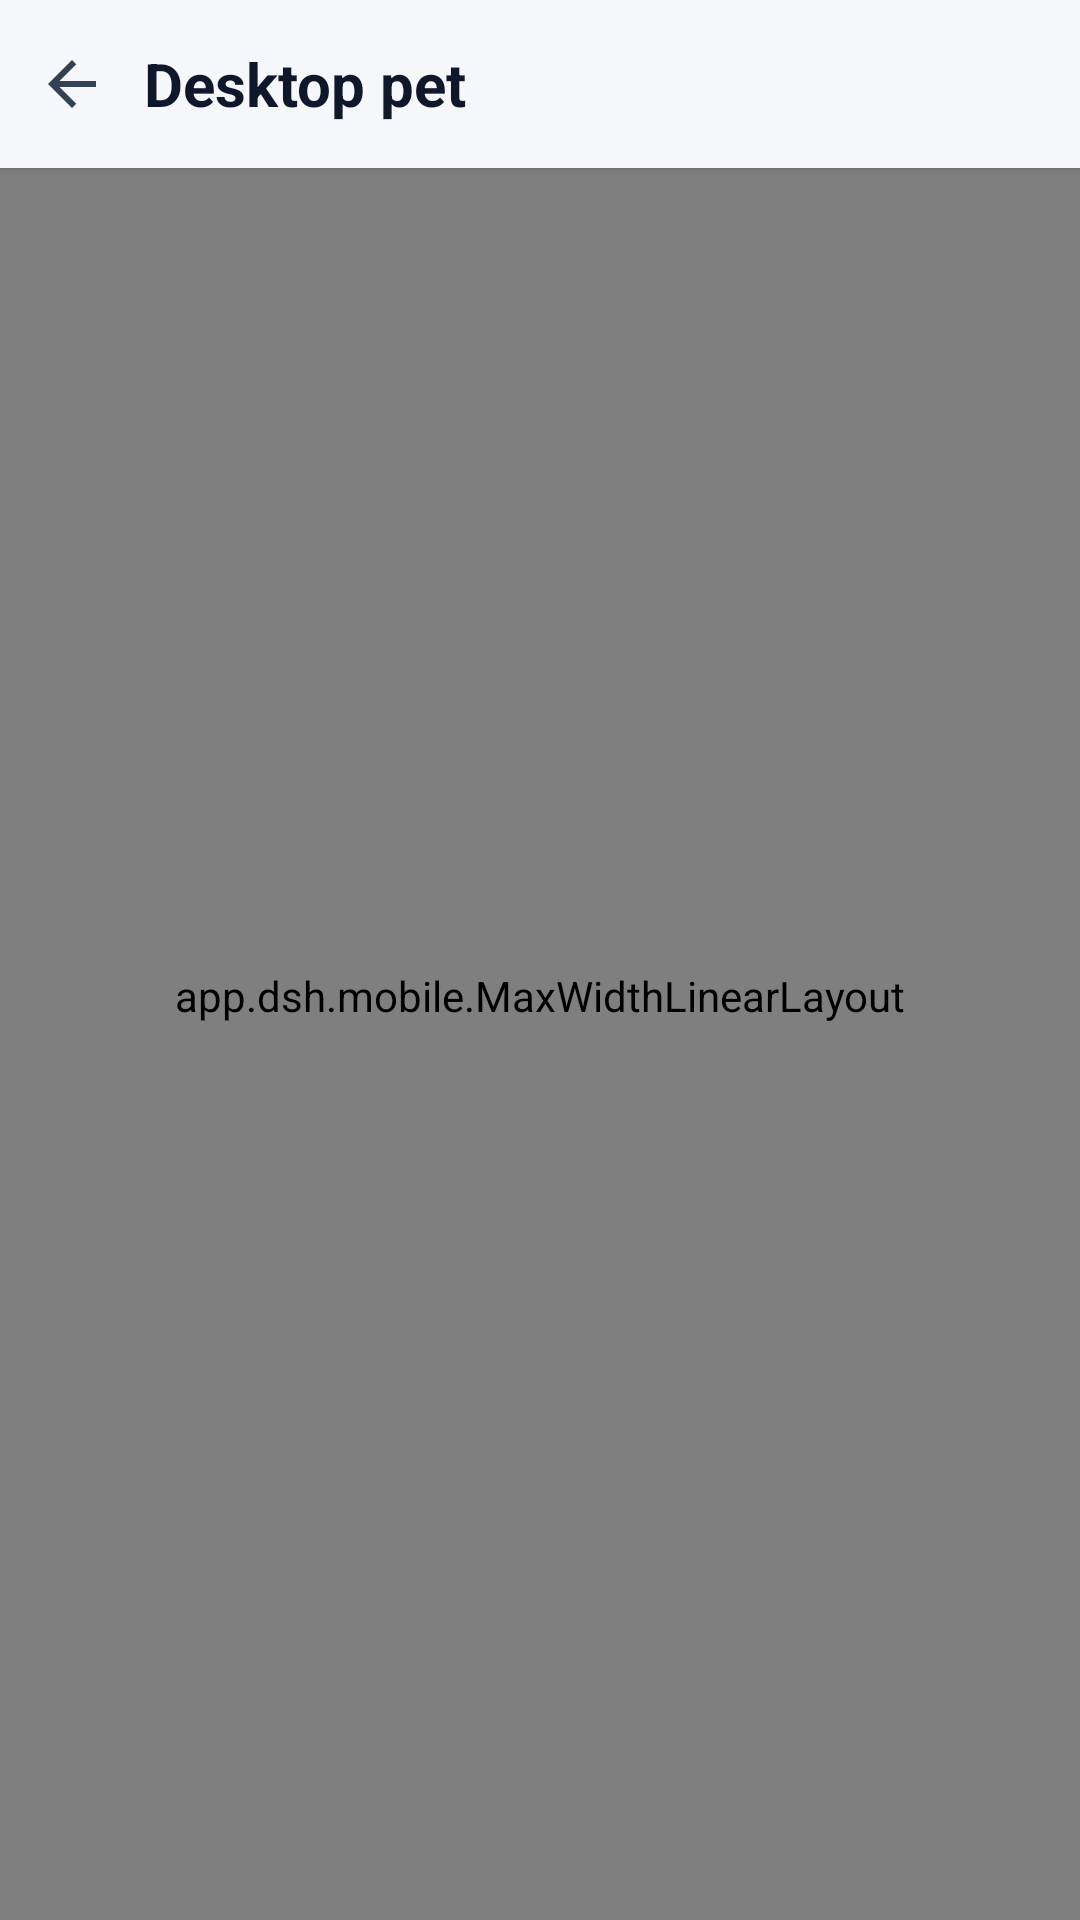

Named icons in this screenshot (1080×1920) and their centers, point (x, y):
Back: point (72, 84)
